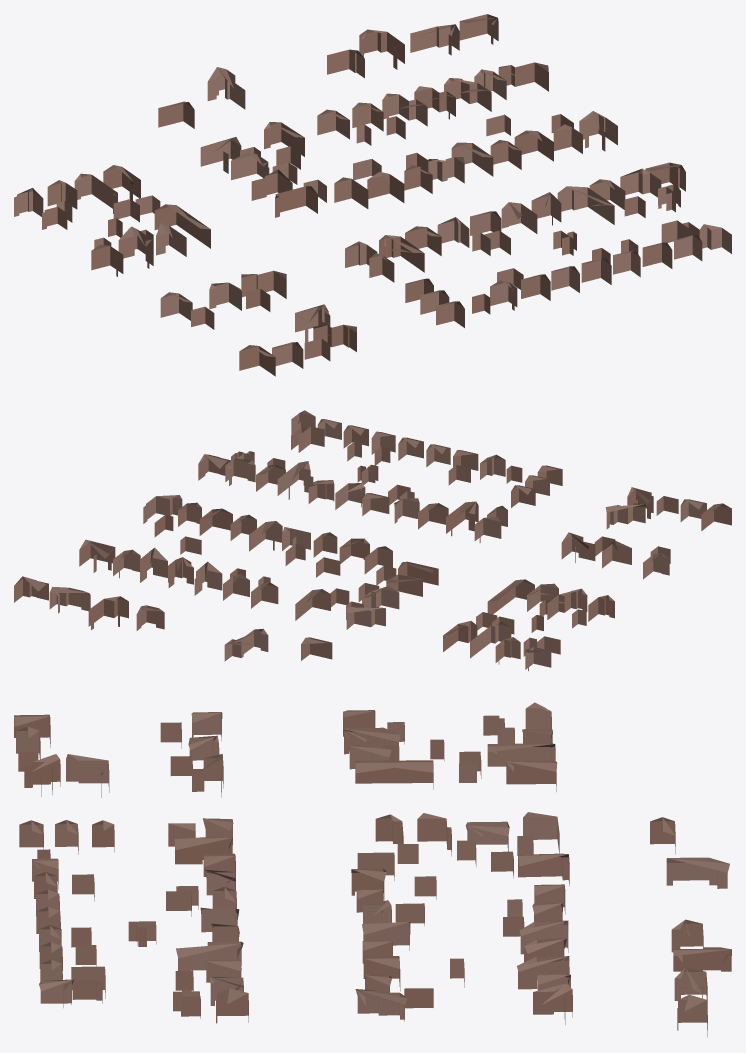
The model's file is c_1646_17827_buildings_residential.glb.
3 renders of one model, top to bottom at view 1: azimuth 30°, elevation 25°; view 2: azimuth 150°, elevation 25°; view 3: azimuth 270°, elevation 25°, orthographic. The views are drawn at different scales.
Visible parts, largest first — view 1: geometry_0; view 2: geometry_0; view 3: geometry_0.
Part boxes in pixels (x1,y1,x2,y2): geometry_0: [14, 14, 731, 376]; geometry_0: [14, 410, 731, 671]; geometry_0: [14, 702, 731, 1037].
Bounding box in the file's own units: 269 × 10.94 × 264.
